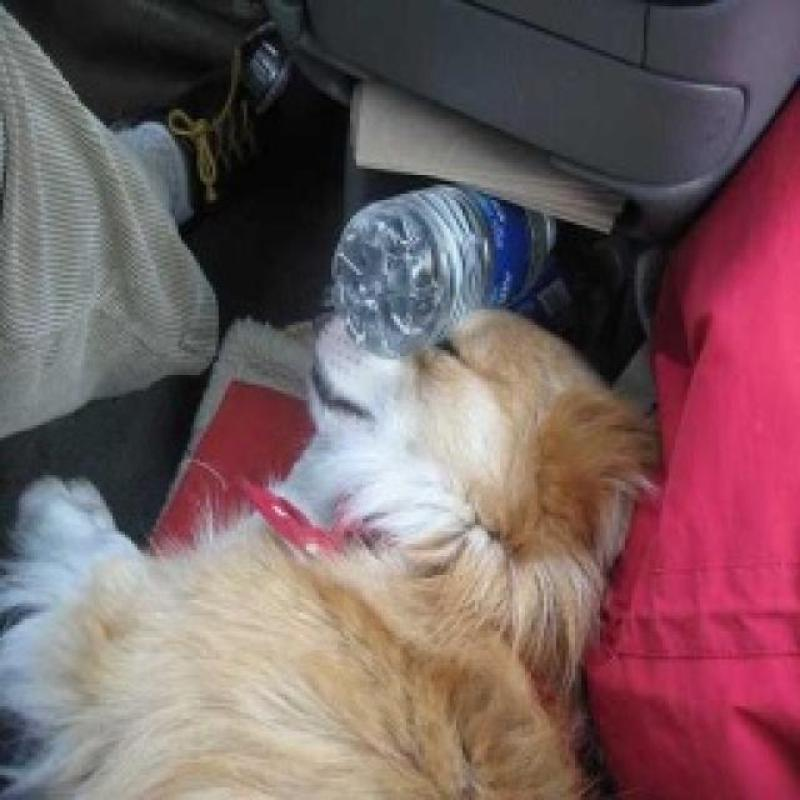botella: (330, 183, 560, 358)
